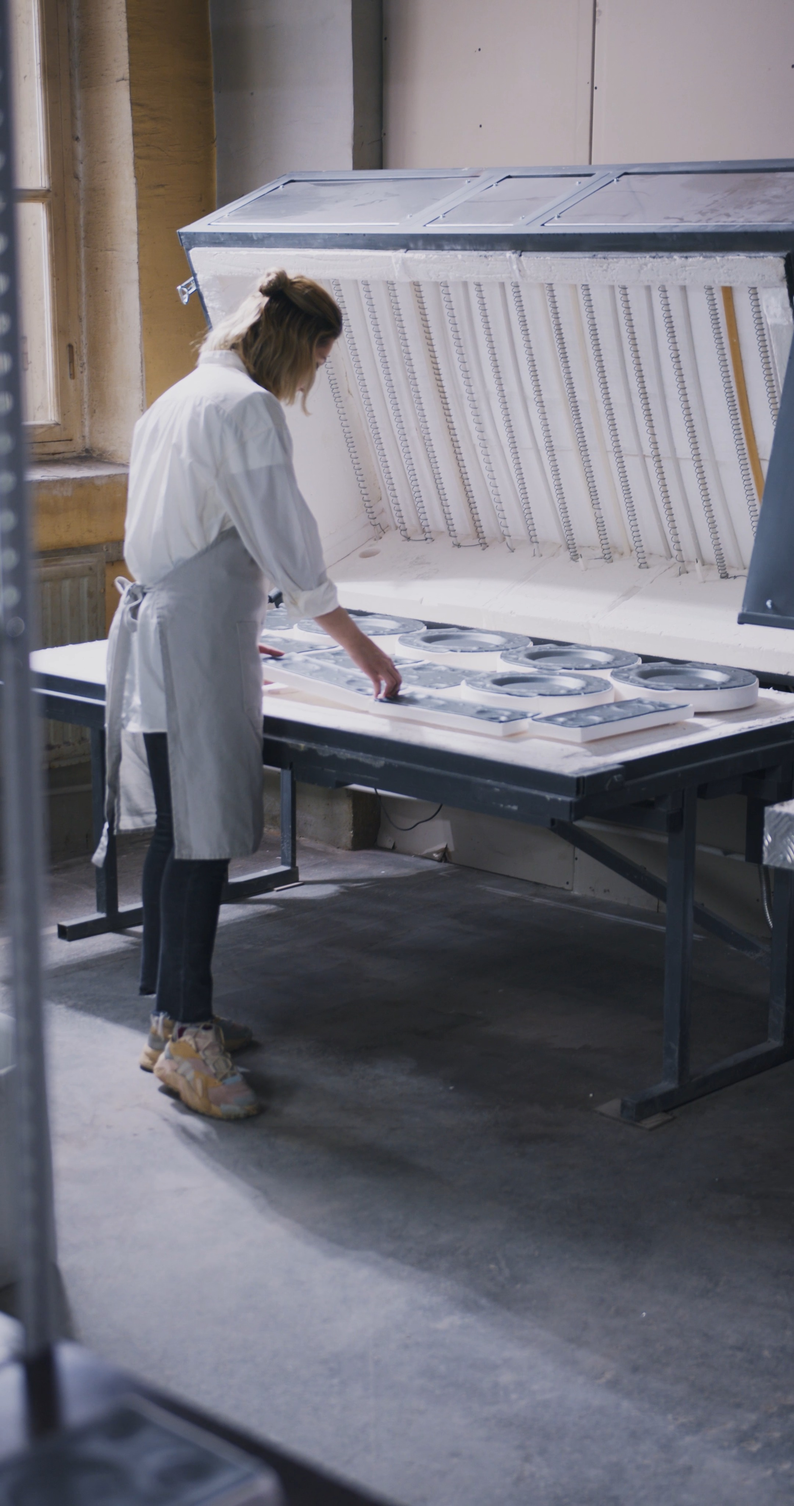No-gloves: (323, 625, 448, 719)
